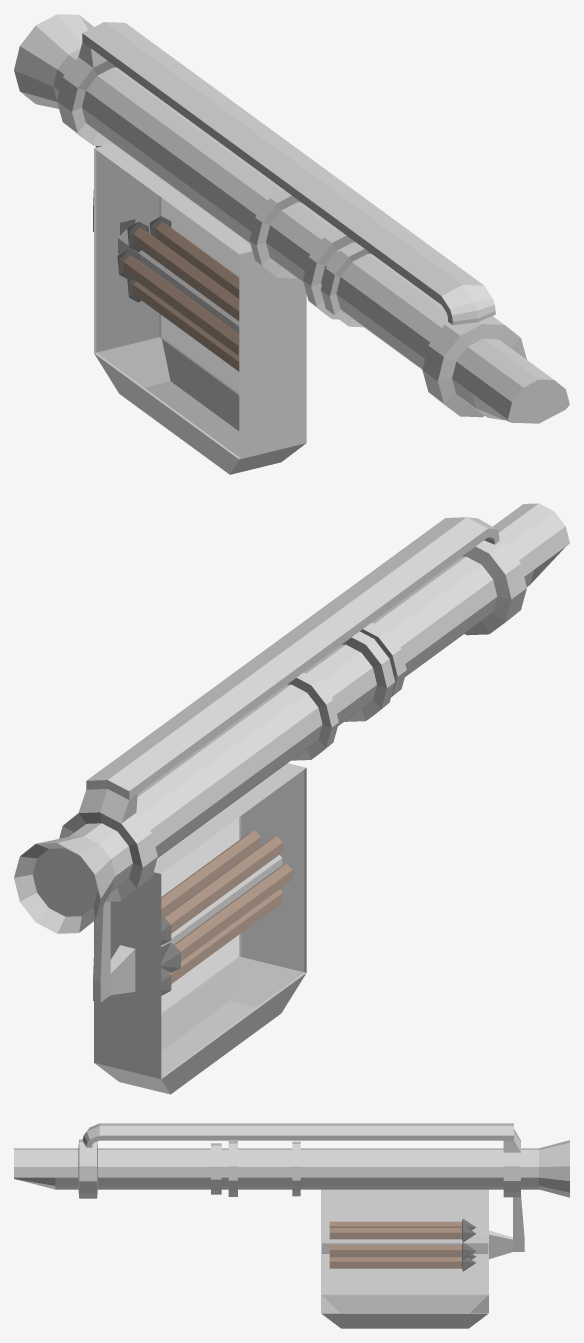
File: ROCKETLAUNCHER.fbx
3 views of the same model, one above another, from view 1: azimuth 30°, elevation 25°; view 2: azimuth 150°, elevation 25°; view 3: azimuth 270°, elevation 25° (orthographic). The views are drawn at different scales.
Parts seen in each view (by area): view 1: launcher, walls, spear.001, spear, spear.005, spear.002; view 2: launcher, walls, spear.001, spear, spear.005, spear.002; view 3: launcher, walls, spear.005, spear.004, spear.003, spear, spear.002.
Part boxes in pixels (x1=…): launcher: x1=14, y1=14, x2=569, y2=474; walls: x1=96, y1=150, x2=239, y2=456; spear.001: x1=117, y1=249, x2=239, y2=355; spear: x1=127, y1=222, x2=239, y2=320; spear.005: x1=149, y1=216, x2=239, y2=298; spear.002: x1=127, y1=278, x2=239, y2=371; launcher: x1=14, y1=503, x2=569, y2=1094; walls: x1=161, y1=770, x2=303, y2=1076; spear.001: x1=161, y1=863, x2=292, y2=972; spear: x1=161, y1=836, x2=282, y2=944; spear.005: x1=161, y1=830, x2=260, y2=916; spear.002: x1=161, y1=889, x2=282, y2=995; launcher: x1=14, y1=1123, x2=569, y2=1328; walls: x1=321, y1=1195, x2=488, y2=1312; spear.005: x1=329, y1=1225, x2=475, y2=1241; spear.004: x1=329, y1=1242, x2=475, y2=1259; spear.003: x1=329, y1=1257, x2=475, y2=1271; spear: x1=329, y1=1219, x2=475, y2=1230; spear.002: x1=330, y1=1254, x2=475, y2=1259.
Bounding box in the file's own units: 21.71 × 78.54 × 203.
